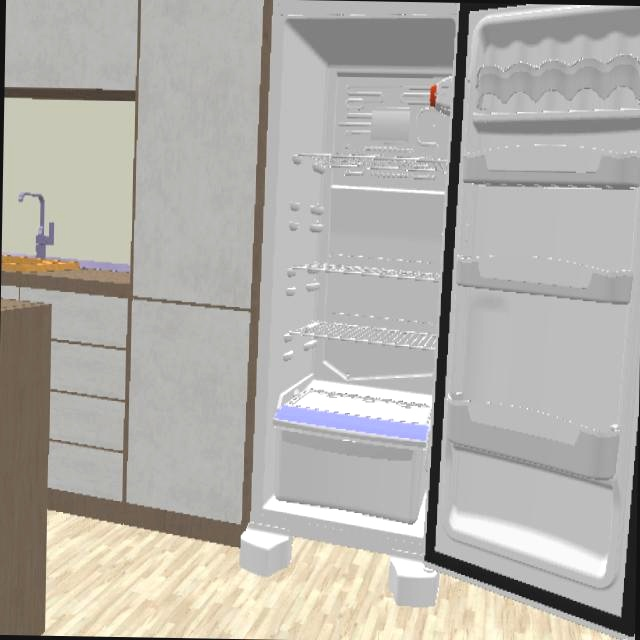cabinet: (4, 0, 297, 543)
countertop: (1, 256, 129, 299)
fridge: (250, 0, 640, 618)
sink: (1, 256, 78, 278)
